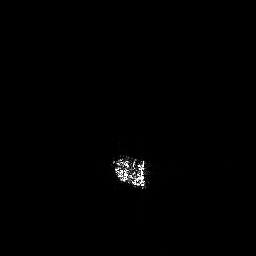ship: (108, 155, 152, 190)
